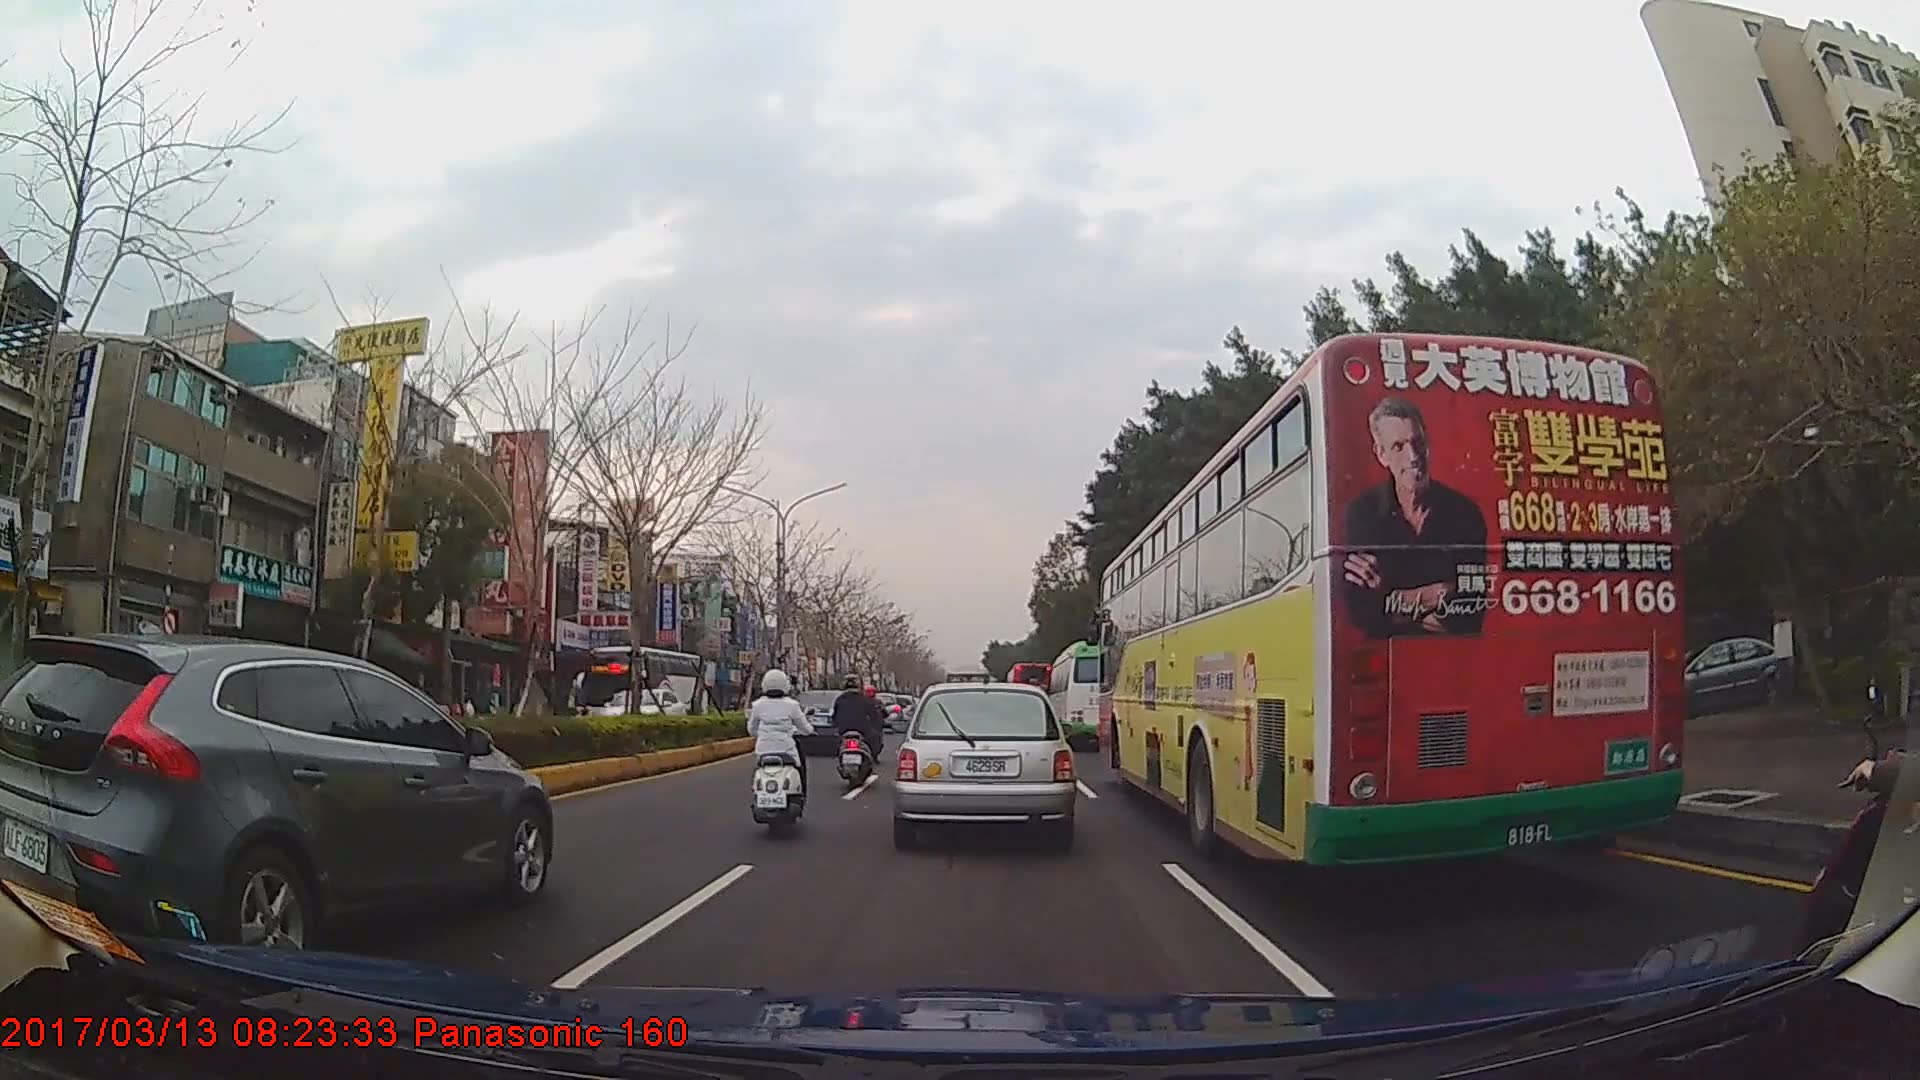rider: (1804, 541, 1920, 1004), (741, 669, 811, 837), (831, 674, 885, 785), (857, 676, 890, 760)
vehicle: (1098, 329, 1686, 869), (0, 628, 552, 963), (896, 680, 1072, 846), (581, 640, 706, 732), (1047, 638, 1143, 754), (783, 684, 866, 751), (603, 685, 686, 739), (1004, 650, 1054, 723)
